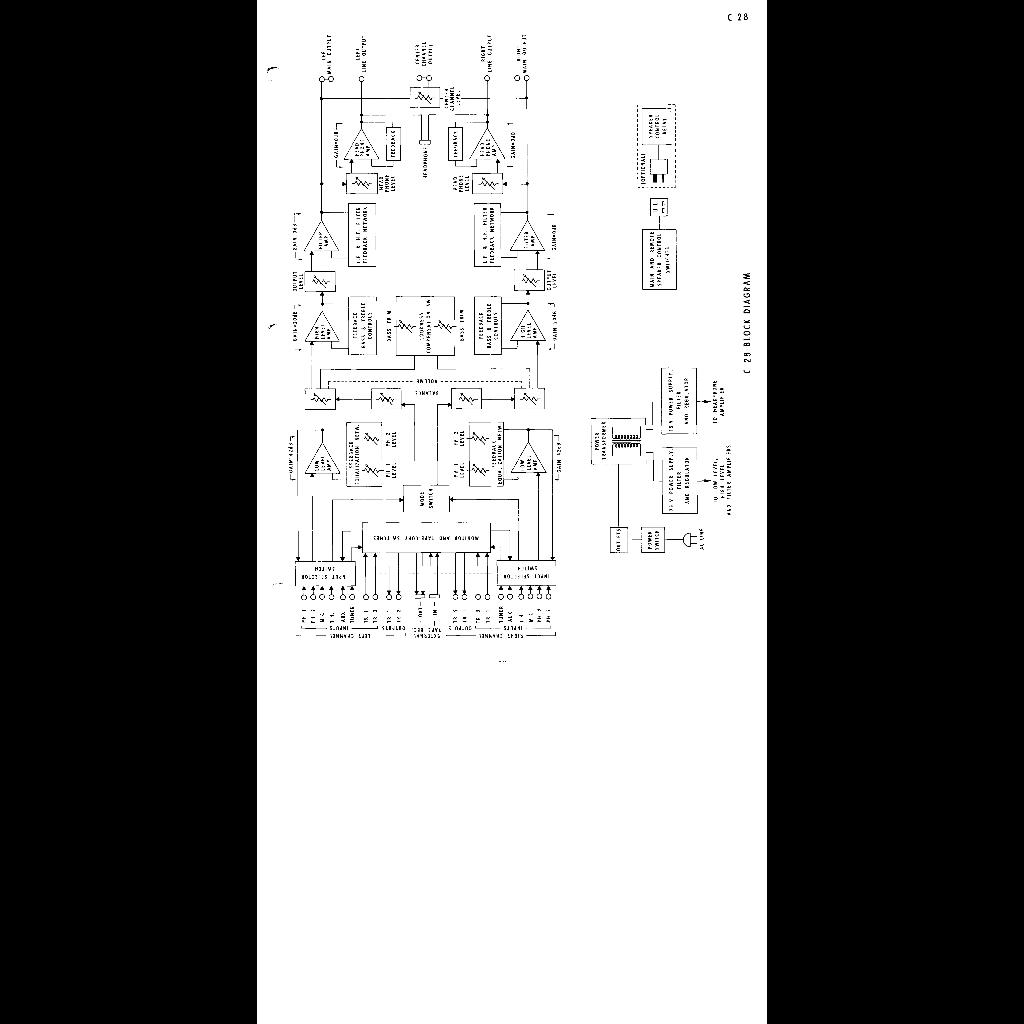Diagram: (279, 26, 757, 660)
